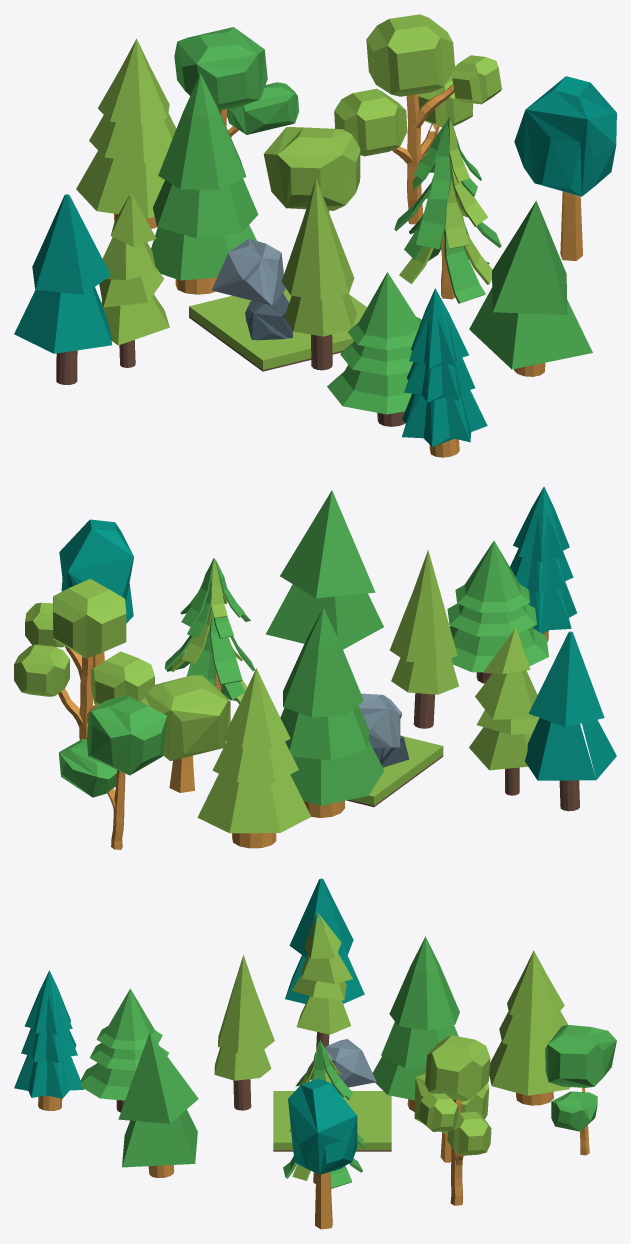
File: trees.glb
3 renders of one model, top to bottom at view 1: azimuth 30°, elevation 25°; view 2: azimuth 150°, elevation 25°; view 3: azimuth 270°, elevation 25°, orthographic. The views are drawn at different scales.
Visible parts, largest first — view 1: Tree_extra_1, Tree_11_Foliage_1, Tree_10_Foliage_1, Tree_4_Foliage_1, Tree_2_Foliage_1, Tree_3_Foliage_1, Tree_12_Foliage_1, Tree_2_Foliage_2, Tree_5_Foliage_1, group833803046, Tree_9_Foliage_2, Tree_9_Foliage_1 (+26 smaller); view 2: Tree_extra_1, Tree_2_Foliage_1, Tree_3_Foliage_1, Tree_10_Foliage_1, Tree_7_Foliage_3, Tree_12_Foliage_1, Tree_4_Foliage_1, Tree_9_Foliage_2, Tree_11_Foliage_1, Tree_2_Foliage_2, Tree_5_Foliage_1, Tree_9_Foliage_1 (+29 smaller); view 3: Tree_11_Foliage_1, Tree_2_Foliage_1, Tree_3_Foliage_1, Tree_12_Foliage_1, Tree_4_Foliage_1, Tree_2_Foliage_2, group833803046, Tree_5_Foliage_1, Tree_7_Foliage_3, Tree_7_Foliage_1, Tree_1_Foliage_3, Tree_8_Foliage_2 (+23 smaller).
Boxes of the visible parts, x1,y1,x2,y2 form: Tree_extra_1: [394, 117, 501, 303]; Tree_11_Foliage_1: [514, 76, 616, 196]; Tree_10_Foliage_1: [263, 127, 360, 210]; Tree_4_Foliage_1: [366, 14, 455, 96]; Tree_2_Foliage_1: [492, 200, 567, 314]; Tree_3_Foliage_1: [158, 74, 246, 189]; Tree_12_Foliage_1: [174, 27, 267, 110]; Tree_2_Foliage_2: [469, 287, 592, 369]; Tree_5_Foliage_1: [281, 178, 354, 300]; group833803046: [189, 287, 366, 371]; Tree_9_Foliage_2: [14, 287, 111, 353]; Tree_9_Foliage_1: [32, 194, 110, 294]; Tree_extra_1: [164, 558, 254, 703]; Tree_2_Foliage_1: [280, 490, 375, 598]; Tree_3_Foliage_1: [283, 608, 363, 717]; Tree_10_Foliage_1: [141, 675, 230, 760]; Tree_7_Foliage_3: [197, 774, 311, 833]; Tree_12_Foliage_1: [87, 694, 167, 775]; Tree_4_Foliage_1: [53, 579, 126, 658]; Tree_9_Foliage_2: [525, 717, 616, 780]; Tree_11_Foliage_1: [59, 519, 133, 623]; Tree_2_Foliage_2: [266, 584, 383, 649]; Tree_5_Foliage_1: [389, 550, 457, 663]; Tree_9_Foliage_1: [528, 631, 604, 727]; Tree_11_Foliage_1: [288, 1078, 357, 1174]; Tree_2_Foliage_1: [118, 1032, 198, 1123]; Tree_3_Foliage_1: [389, 936, 459, 1030]; Tree_12_Foliage_1: [545, 1025, 616, 1087]; Tree_4_Foliage_1: [425, 1035, 490, 1101]; Tree_2_Foliage_2: [122, 1109, 197, 1167]; group833803046: [273, 1091, 391, 1151]; Tree_5_Foliage_1: [218, 955, 274, 1052]; Tree_7_Foliage_3: [489, 1041, 570, 1095]; Tree_7_Foliage_1: [507, 950, 564, 1020]; Tree_1_Foliage_3: [14, 1055, 83, 1098]; Tree_8_Foliage_2: [96, 988, 162, 1050].
Bounding box in the file's own units: 3.81 × 1.37 × 4.23.
